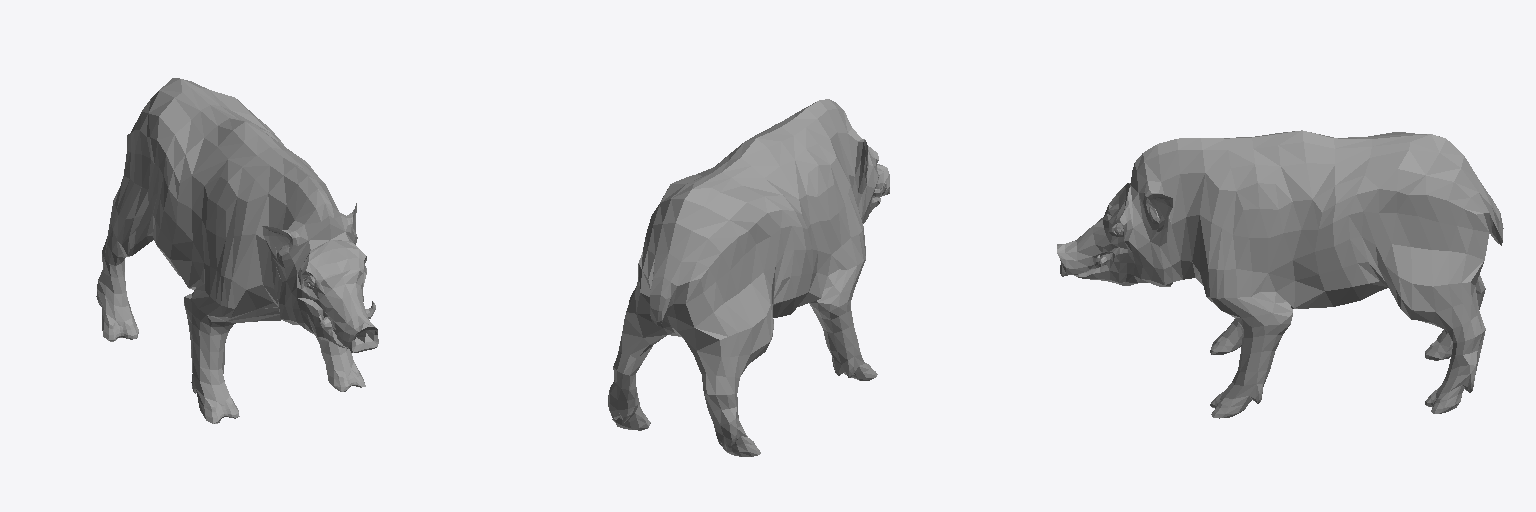
The model's file is wild_boar_scrofa_01.obj.
3 views of the same model, side by side, from view 1: azimuth 30°, elevation 25°; view 2: azimuth 150°, elevation 25°; view 3: azimuth 270°, elevation 25° (orthographic).
Parts seen in each view (by area): view 1: Cube.009_Cube.011; view 2: Cube.009_Cube.011; view 3: Cube.009_Cube.011.
Boxes of the visible parts, box(x1,y1,x2,y2) form: Cube.009_Cube.011: box(96, 78, 378, 423); Cube.009_Cube.011: box(608, 99, 889, 456); Cube.009_Cube.011: box(1057, 130, 1503, 418).
Size of the model in its own units: 60.43 by 92.01 by 148.